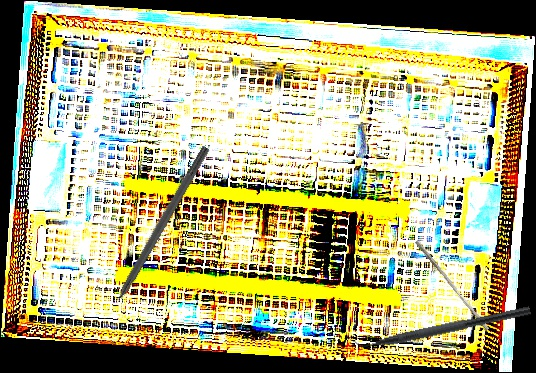Chopper: (345, 293, 532, 357)
Hook Surgical: (101, 144, 211, 322)
Pusher: (411, 239, 493, 332)
